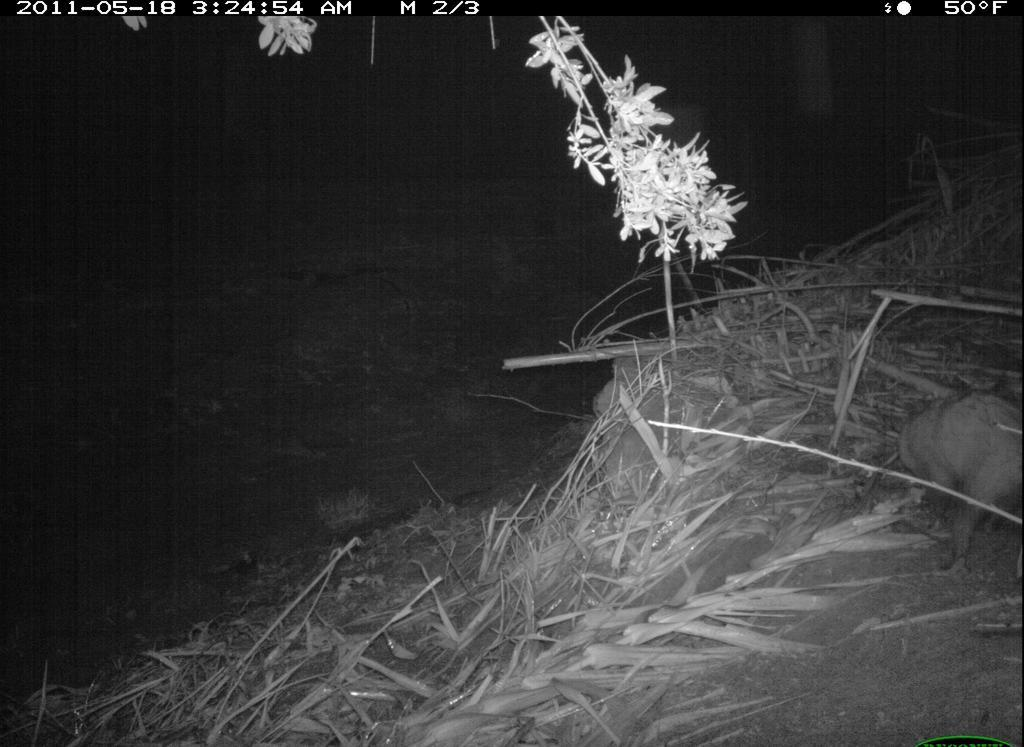opossum: (890, 381, 1023, 580)
